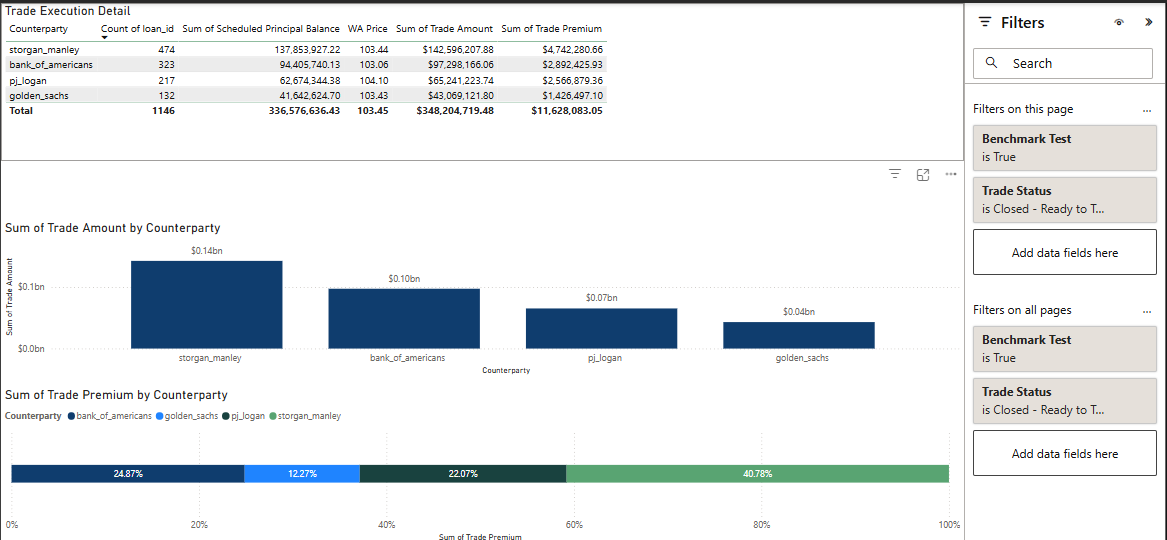

The dashboard page shown, as its layout file describes it:
{"tool":"powerbi","page":{"name":"Trade Execution","canvas":[1280,720],"ordinal":3},"visuals":[{"type":"tableEx","title":"Trade Execution Detail","fields":{"Values":["loan_data.Counterparty","loan_data.loan_id","loan_balance.Scheduled Principal Balance","loan_data.WA Price","loan_data.Trade Price $","loan_data.Trade Premium"]},"box":[0,0,1280,209.9],"z":0},{"type":"clusteredColumnChart","fields":{"Category":["loan_data.Counterparty"],"Y":["loan_data.Dollar Price Amount"]},"box":[0,289,1280,209.9],"z":1000},{"type":"hundredPercentStackedBarChart","fields":{"Series":["loan_data.Counterparty"],"Y":["loan_data.Trade Premium"]},"box":[0,510.4,1280,209.9],"z":2000}]}

Visuals, with their boxes on the page's 1280x720 design canvas (x1, y1, x2, y2). These are canvas units, not pixel positions in the 1167x540 screenshot, which may show the page scaled, cropped or inside an application window:
"Trade Execution Detail" tableEx: {"x1": 0, "y1": 0, "x2": 1280, "y2": 210}
clusteredColumnChart - loan_data.Counterparty x loan_data.Dollar Price Amount: {"x1": 0, "y1": 289, "x2": 1280, "y2": 499}
hundredPercentStackedBarChart - loan_data.Counterparty x loan_data.Trade Premium: {"x1": 0, "y1": 510, "x2": 1280, "y2": 720}
